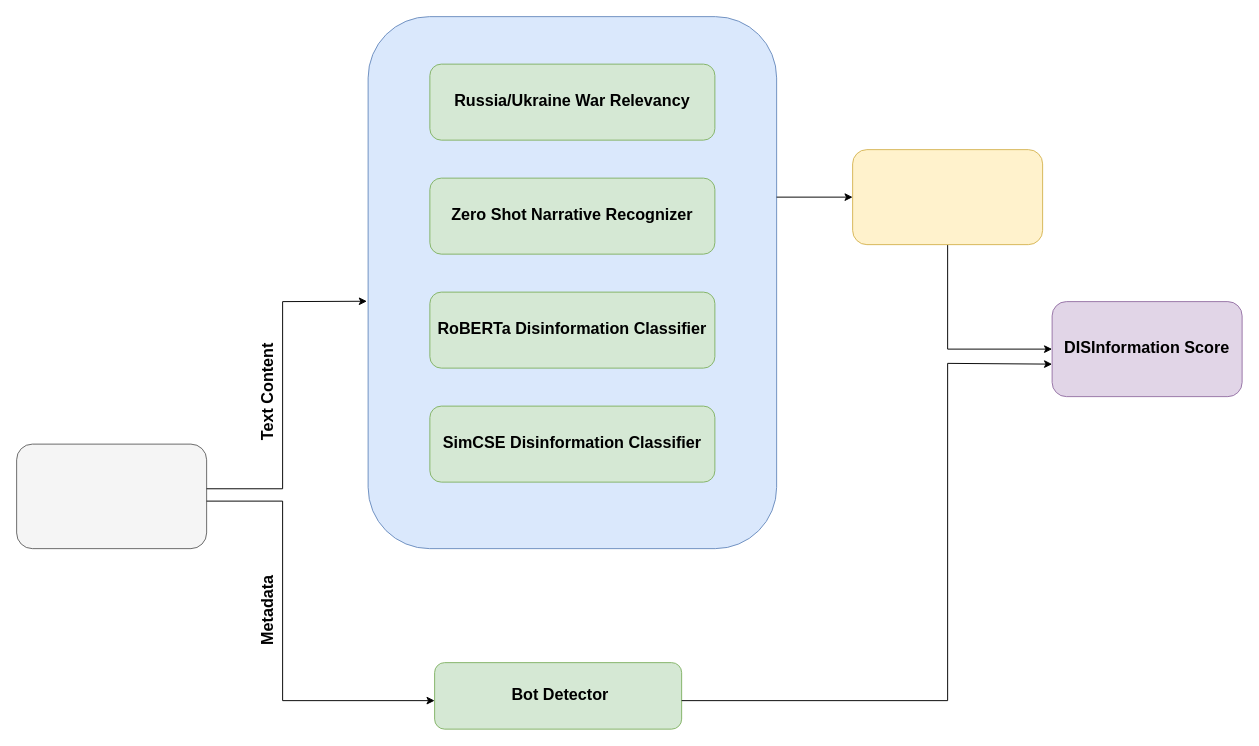
The diagram is 1259 pixels wide and 746 high, and some of its shapes have lost their labels. The centre of each missing label's shape, as x and y in pixels:
"Analysis Insights" belongs at [947,197].
"Input Data" belongs at [111,496].
